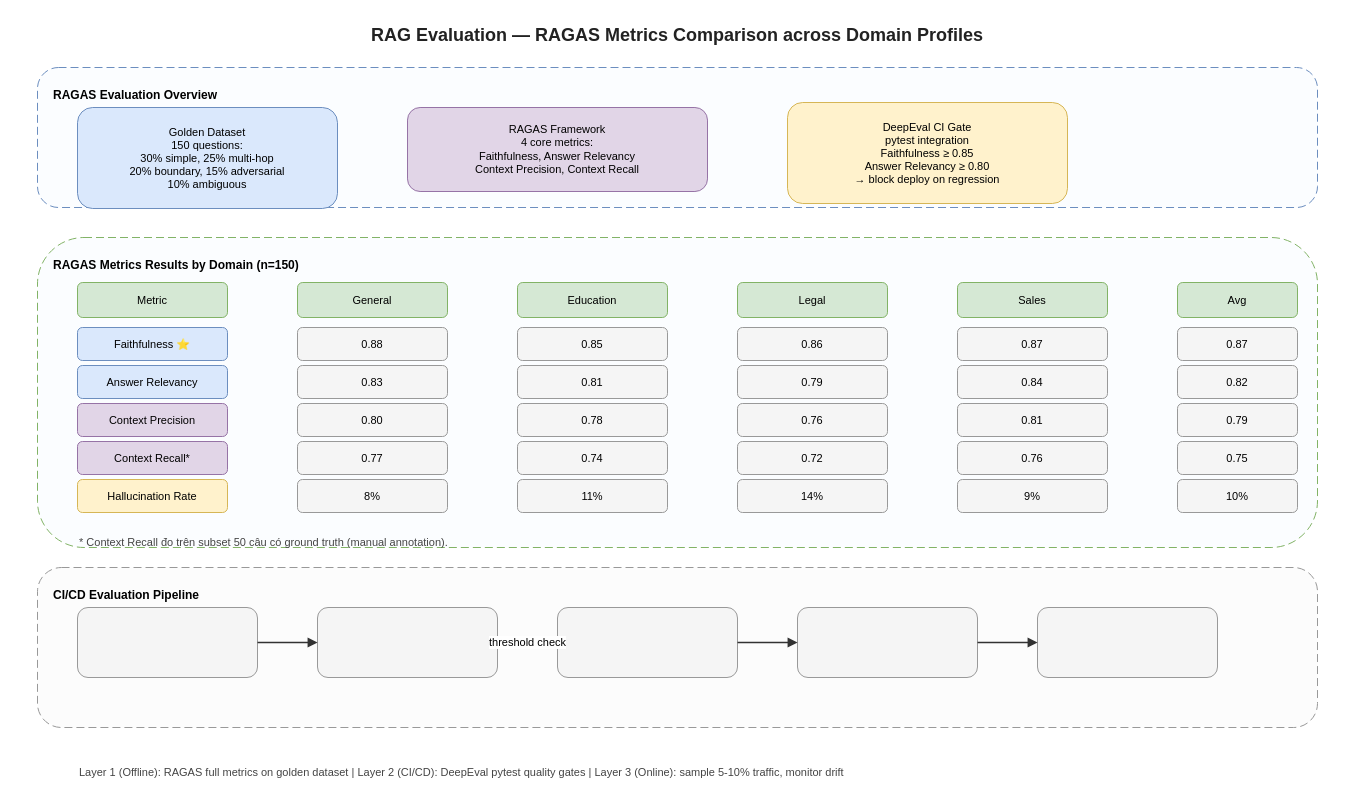
Image size: 1354x804. Some labels were removed from this diagram. Here are the shapes that lost their labels. From the top down, the centre of each, then its label:
At (x=167, y=642): "Code Change (prompt, chunking, model update)".
At (x=407, y=642): "DeepEval Suite pytest --deepeval 150 tests".
At (x=647, y=642): "Quality Gates ≥ 0.85 faithfulness ≥ 0.80 relevancy".
At (x=887, y=642): "PASS → Merge REGRESS → Block + Slack alert".
At (x=1127, y=642): "Deploy → Production monitoring".
